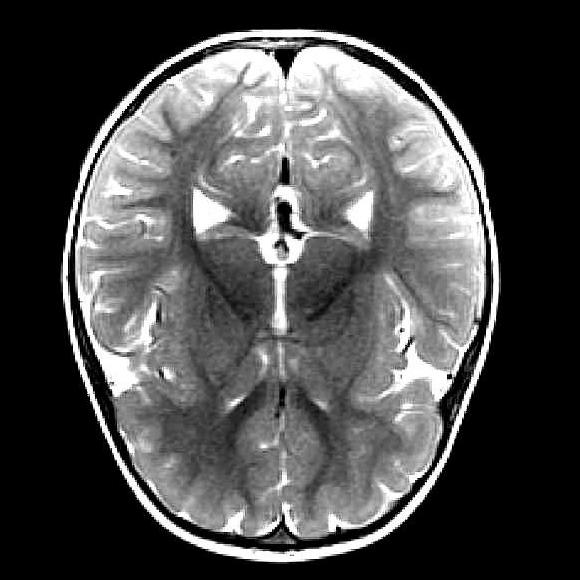Normal_Brain: (27, 1, 580, 580)
